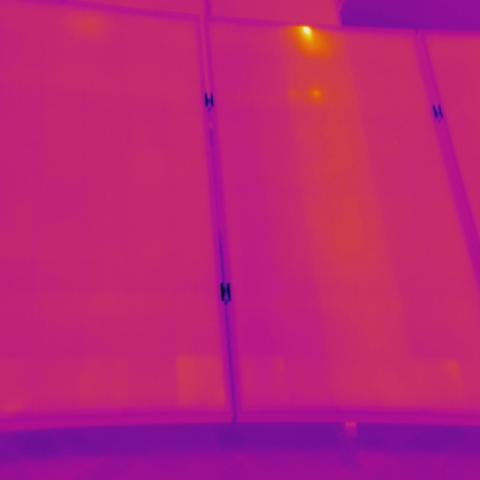fault: (293, 22, 321, 52)
